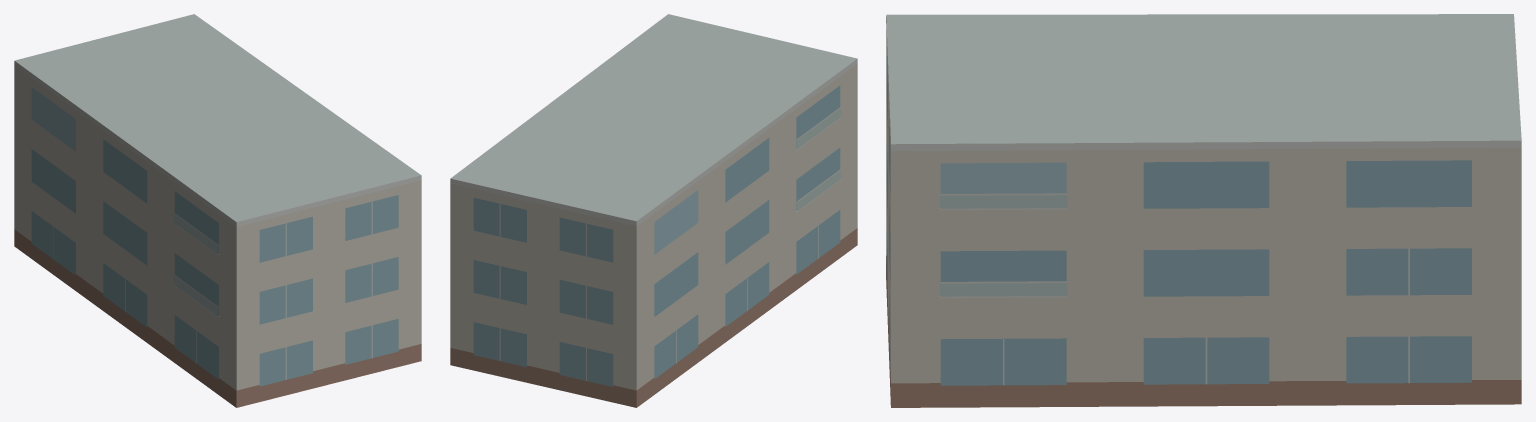
The model's file is survey-upis-32665208.glb.
3 renders of one model, left to right at view 1: azimuth 30°, elevation 25°; view 2: azimuth 150°, elevation 25°; view 3: azimuth 270°, elevation 25°, orthographic. The views are drawn at different scales.
Visible parts, largest first — view 1: survey-upis-32665208.tmp; view 2: survey-upis-32665208.tmp; view 3: survey-upis-32665208.tmp.
Part boxes in pixels (bbox=[...]): survey-upis-32665208.tmp: bbox=[14, 14, 421, 407]; survey-upis-32665208.tmp: bbox=[450, 14, 857, 407]; survey-upis-32665208.tmp: bbox=[886, 14, 1521, 407].
Bounding box in the file's own units: 9.71 × 9.15 × 19.99.
